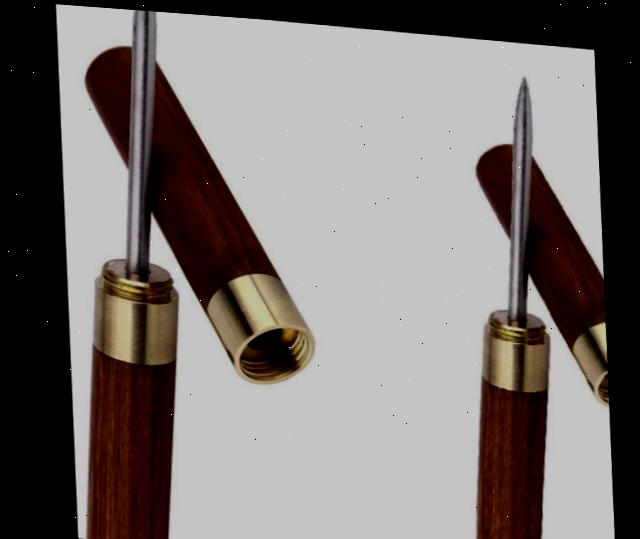ice pick: (77, 38, 317, 381), (49, 3, 191, 539), (442, 58, 562, 539), (467, 131, 609, 396)
